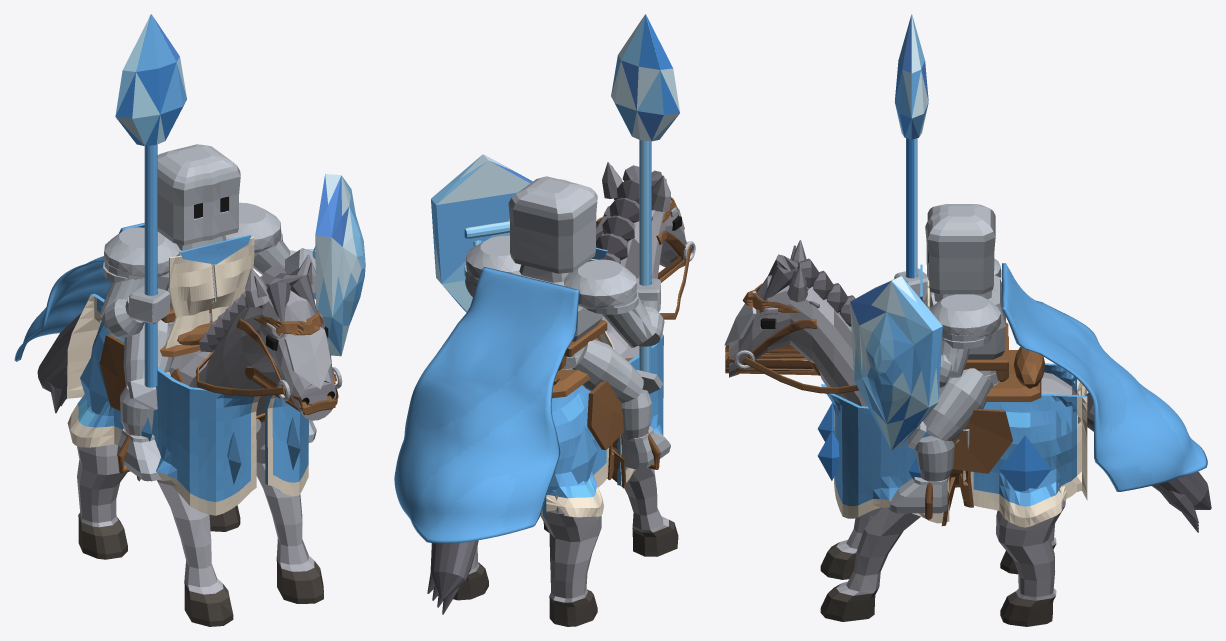
File: frostblade.glb
3 views of the same model, side by side, from view 1: azimuth 30°, elevation 25°; view 2: azimuth 150°, elevation 25°; view 3: azimuth 270°, elevation 25° (orthographic). The views are drawn at different scales.
Visible parts, largest first — view 1: Warhorse — single connected sculpted equine head neck trunk , Warhorse — winter thick continuously folded side cloth 1 fro, Mounted champion helm — integrated stepped roof cheek nape a, Frost Knight crystal shield — thick convex crystalline kite , Frost Knight — broad multi-tier crystal spear point, Mounted champion — source ivory split surcoat over retained  (×2), Warhorse — winter thick continuously folded side cloth 1 rea, Warhorse — winter thick continuously folded side cloth -1 fr, Mounted champion — continuously folded source cloak, Frost Knight — complete icy shaft, Mounted champion — source convex angular shoulder crown 1, Warhorse — actual source-fitted silver forehead nasal bardin (+20 smaller); view 2: Mounted champion — continuously folded source cloak, Warhorse — single connected sculpted equine head neck trunk , Mounted champion helm — integrated stepped roof cheek nape a, Frost Knight crystal shield — thick convex crystalline kite , Frost Knight — broad multi-tier crystal spear point, Warhorse — winter thick continuously folded side cloth 1 rea, Mounted champion — source convex angular shoulder crown 1, Mounted champion — shaped seated thigh 1, Frost Knight — complete icy shaft, Warhorse — long solid angular tail, Warhorse — shaped source leather saddle skirt 1, Mounted champion — source convex angular shoulder crown -1 (+19 smaller); view 3: Warhorse — single connected sculpted equine head neck trunk , Mounted champion — continuously folded source cloak, Frost Knight crystal shield — thick convex crystalline kite , Warhorse — winter thick continuously folded side cloth -1 re, Warhorse — winter thick continuously folded side cloth -1 fr, Mounted champion helm — integrated stepped roof cheek nape a, Frost Knight — broad multi-tier crystal spear point, Mounted champion — shaped seated thigh -1, Warhorse — shaped source leather saddle skirt -1, Mounted champion — source convex angular shoulder crown -1, Warhorse — broad rear source icy diamond -1, Frost Knight — complete icy shaft (+11 smaller).
Boxes of the visible parts, bbox=[...] form: Warhorse — single connected sculpted equine head neck trunk : bbox=[77, 290, 336, 626]; Warhorse — winter thick continuously folded side cloth 1 fro: bbox=[144, 367, 260, 515]; Mounted champion helm — integrated stepped roof cheek nape a: bbox=[157, 144, 240, 245]; Frost Knight crystal shield — thick convex crystalline kite : bbox=[315, 174, 365, 356]; Frost Knight — broad multi-tier crystal spear point: bbox=[115, 14, 186, 145]; Mounted champion — source ivory split surcoat over retained  (×2): bbox=[165, 237, 254, 348]; Warhorse — winter thick continuously folded side cloth 1 rea: bbox=[67, 293, 124, 447]; Warhorse — winter thick continuously folded side cloth -1 fr: bbox=[265, 386, 308, 496]; Mounted champion — continuously folded source cloak: bbox=[14, 222, 144, 361]; Frost Knight — complete icy shaft: bbox=[144, 144, 157, 387]; Mounted champion — source convex angular shoulder crown 1: bbox=[104, 227, 179, 277]; Warhorse — actual source-fitted silver forehead nasal bardin: bbox=[284, 319, 331, 389]; Mounted champion — continuously folded source cloak: bbox=[394, 267, 579, 543]; Warhorse — single connected sculpted equine head neck trunk : bbox=[453, 199, 687, 626]; Mounted champion helm — integrated stepped roof cheek nape a: bbox=[508, 176, 597, 273]; Frost Knight crystal shield — thick convex crystalline kite : bbox=[431, 154, 532, 312]; Frost Knight — broad multi-tier crystal spear point: bbox=[611, 14, 679, 141]; Warhorse — winter thick continuously folded side cloth 1 rea: bbox=[540, 385, 609, 517]; Mounted champion — source convex angular shoulder crown 1: bbox=[563, 259, 636, 309]; Mounted champion — shaped seated thigh 1: bbox=[572, 339, 643, 402]; Frost Knight — complete icy shaft: bbox=[639, 140, 651, 372]; Warhorse — long solid angular tail: bbox=[430, 540, 478, 599]; Warhorse — shaped source leather saddle skirt 1: bbox=[587, 380, 624, 449]; Mounted champion — source convex angular shoulder crown -1: bbox=[466, 235, 520, 279]; Warhorse — single connected sculpted equine head neck trunk : bbox=[729, 275, 1076, 626]; Mounted champion — continuously folded source cloak: bbox=[1001, 263, 1207, 491]; Frost Knight crystal shield — thick convex crystalline kite : bbox=[850, 276, 942, 450]; Warhorse — winter thick continuously folded side cloth -1 re: bbox=[963, 393, 1087, 527]; Warhorse — winter thick continuously folded side cloth -1 fr: bbox=[821, 384, 949, 523]; Mounted champion helm — integrated stepped roof cheek nape a: bbox=[925, 204, 995, 294]; Frost Knight — broad multi-tier crystal spear point: bbox=[895, 14, 928, 139]; Mounted champion — shaped seated thigh -1: bbox=[923, 368, 993, 440]; Warhorse — shaped source leather saddle skirt -1: bbox=[953, 409, 1012, 473]; Mounted champion — source convex angular shoulder crown -1: bbox=[930, 294, 1000, 337]; Warhorse — broad rear source icy diamond -1: bbox=[999, 435, 1051, 491]; Frost Knight — complete icy shaft: bbox=[906, 138, 917, 278].
Size of the model in its own units: 1.1 by 2.48 by 2.01.
